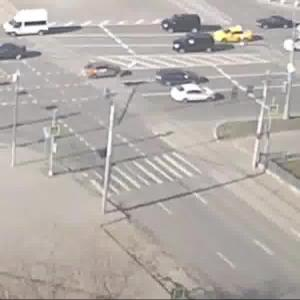car: (6, 10, 59, 38), (168, 82, 222, 104), (170, 35, 215, 58), (155, 68, 211, 86), (252, 15, 300, 33), (211, 25, 252, 46), (1, 38, 32, 64), (87, 63, 127, 81), (163, 18, 203, 34)
